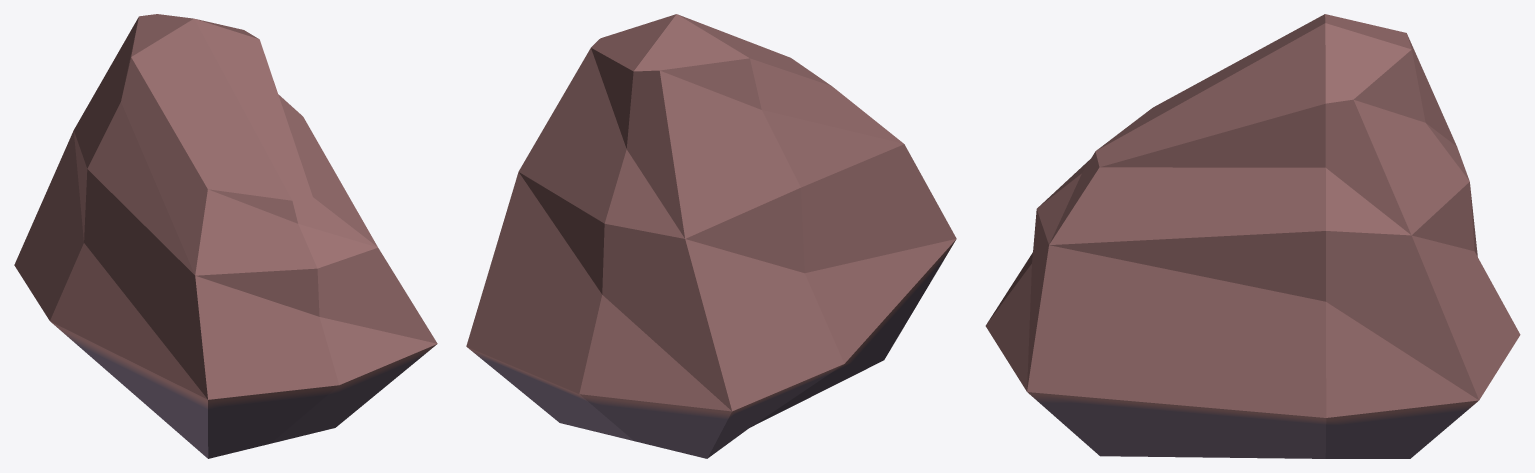
File: Roca.fbx
3 views of the same model, side by side, from view 1: azimuth 30°, elevation 25°; view 2: azimuth 150°, elevation 25°; view 3: azimuth 270°, elevation 25° (orthographic). The views are drawn at different scales.
Visible parts, largest first — view 1: Cube; view 2: Cube; view 3: Cube.
Boxes of the visible parts, <box> form: Cube: <box>14,14,437,458</box>; Cube: <box>466,14,956,458</box>; Cube: <box>985,14,1520,458</box>.
Size of the model in its own units: 457 by 525 by 624.
1 material, 1 textured.
